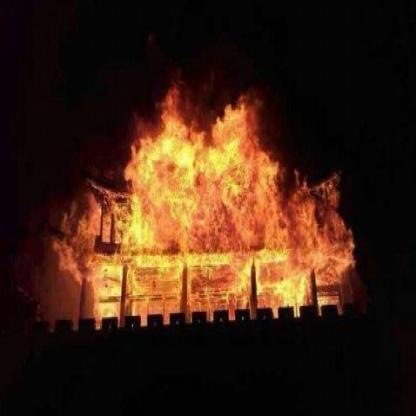fire: (54, 66, 359, 330)
